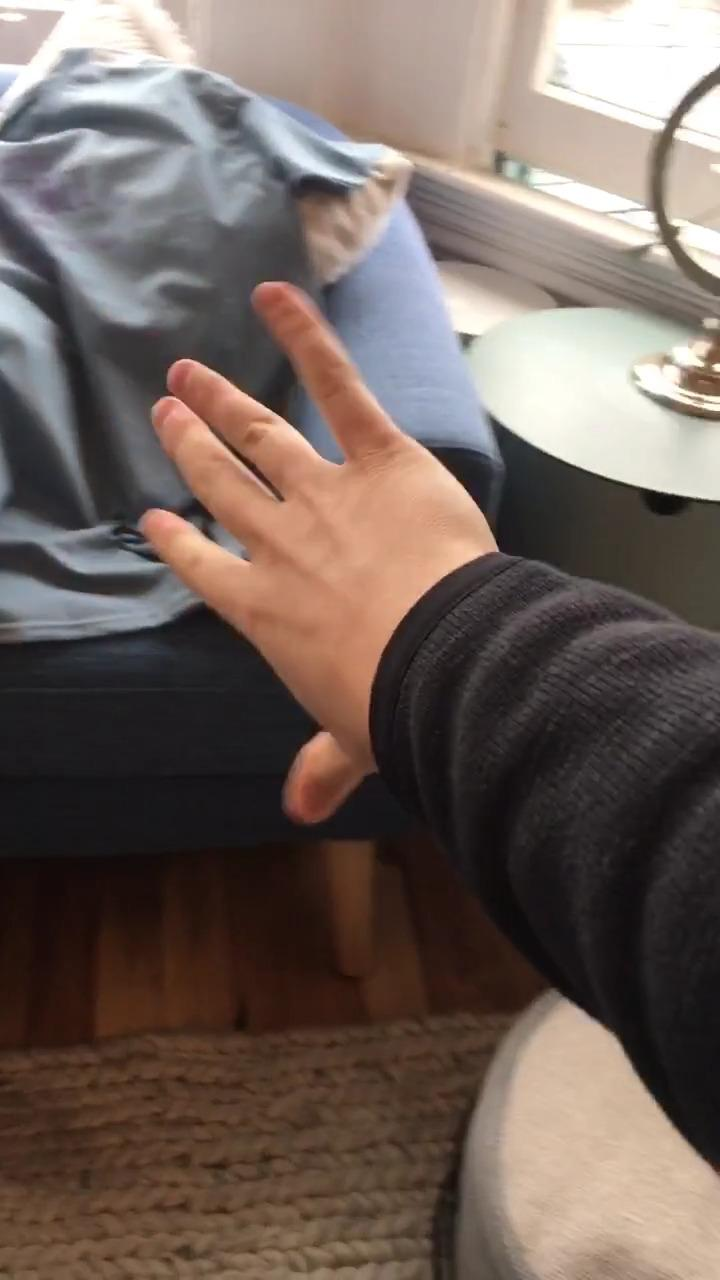Paper: (138, 274, 492, 823)
